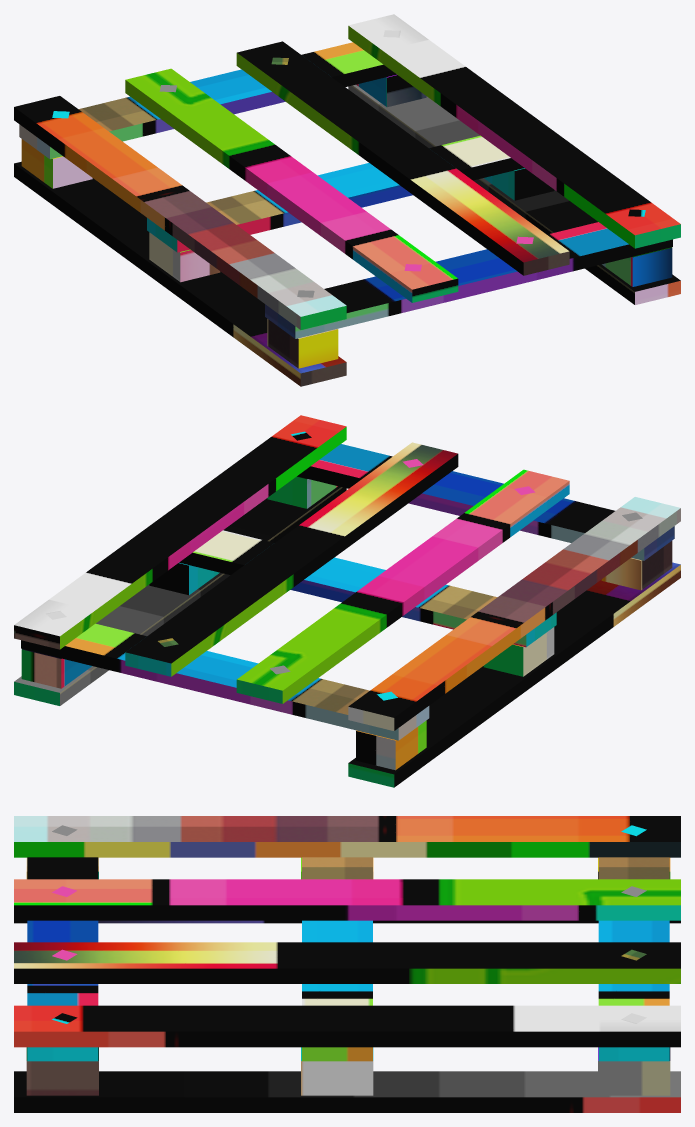
Rendered from WoodPallets.FBX.
The picture shows the model from 3 angles, top to bottom: view 1: azimuth 30°, elevation 25°; view 2: azimuth 150°, elevation 25°; view 3: azimuth 270°, elevation 25°; orthographic projection. The views are drawn at different scales.
Visible parts, largest first — view 1: WoodPallets; view 2: WoodPallets; view 3: WoodPallets.
Boxes of the visible parts, bbox=[...] form: WoodPallets: bbox=[14, 14, 680, 386]; WoodPallets: bbox=[14, 415, 680, 787]; WoodPallets: bbox=[14, 816, 680, 1112].
Size of the model in its own units: 98.03 by 17.33 by 128.
1 material, 1 textured.
